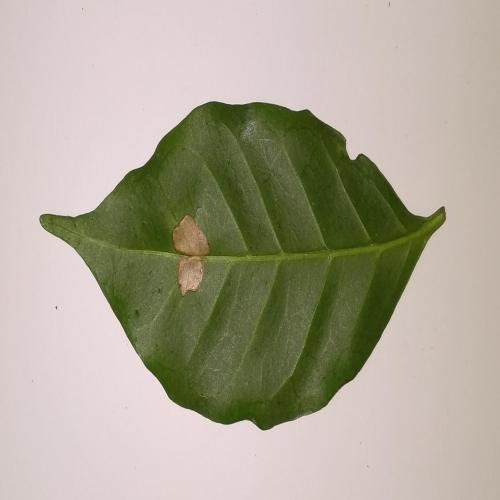leaf: (173, 216, 209, 294)
